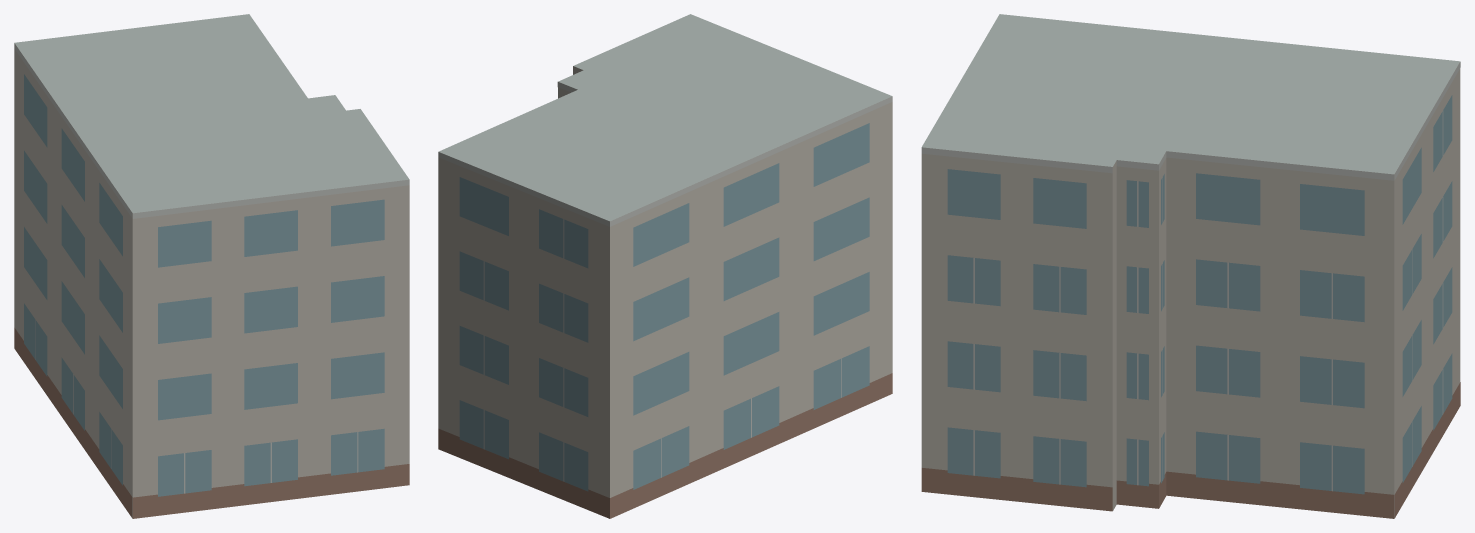
Rendered from survey-upis-33029318.glb.
3 views of the same model, side by side, from view 1: azimuth 30°, elevation 25°; view 2: azimuth 150°, elevation 25°; view 3: azimuth 270°, elevation 25° (orthographic). The views are drawn at different scales.
Visible parts, largest first — view 1: survey-upis-33029318.tmp; view 2: survey-upis-33029318.tmp; view 3: survey-upis-33029318.tmp.
Part boxes in pixels (left/top/right/bottom): survey-upis-33029318.tmp: left=14, top=14, right=409, bottom=518; survey-upis-33029318.tmp: left=438, top=14, right=892, bottom=518; survey-upis-33029318.tmp: left=921, top=14, right=1460, bottom=518.
Bounding box in the file's own units: 13.19 × 13.2 × 18.73.
